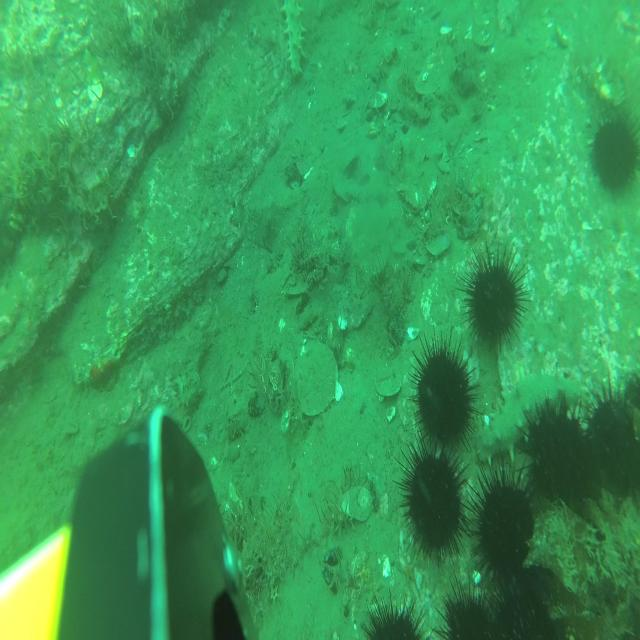echinus: (394, 430, 472, 566), (470, 454, 542, 590), (456, 236, 532, 356), (411, 327, 480, 458), (520, 396, 592, 521), (581, 374, 637, 511), (488, 572, 563, 640), (589, 103, 640, 201), (433, 572, 492, 640), (359, 594, 426, 640)
holothurian: (474, 372, 582, 465), (279, 0, 306, 74)
scallop: (296, 343, 338, 415), (341, 484, 373, 523), (375, 369, 401, 397)
